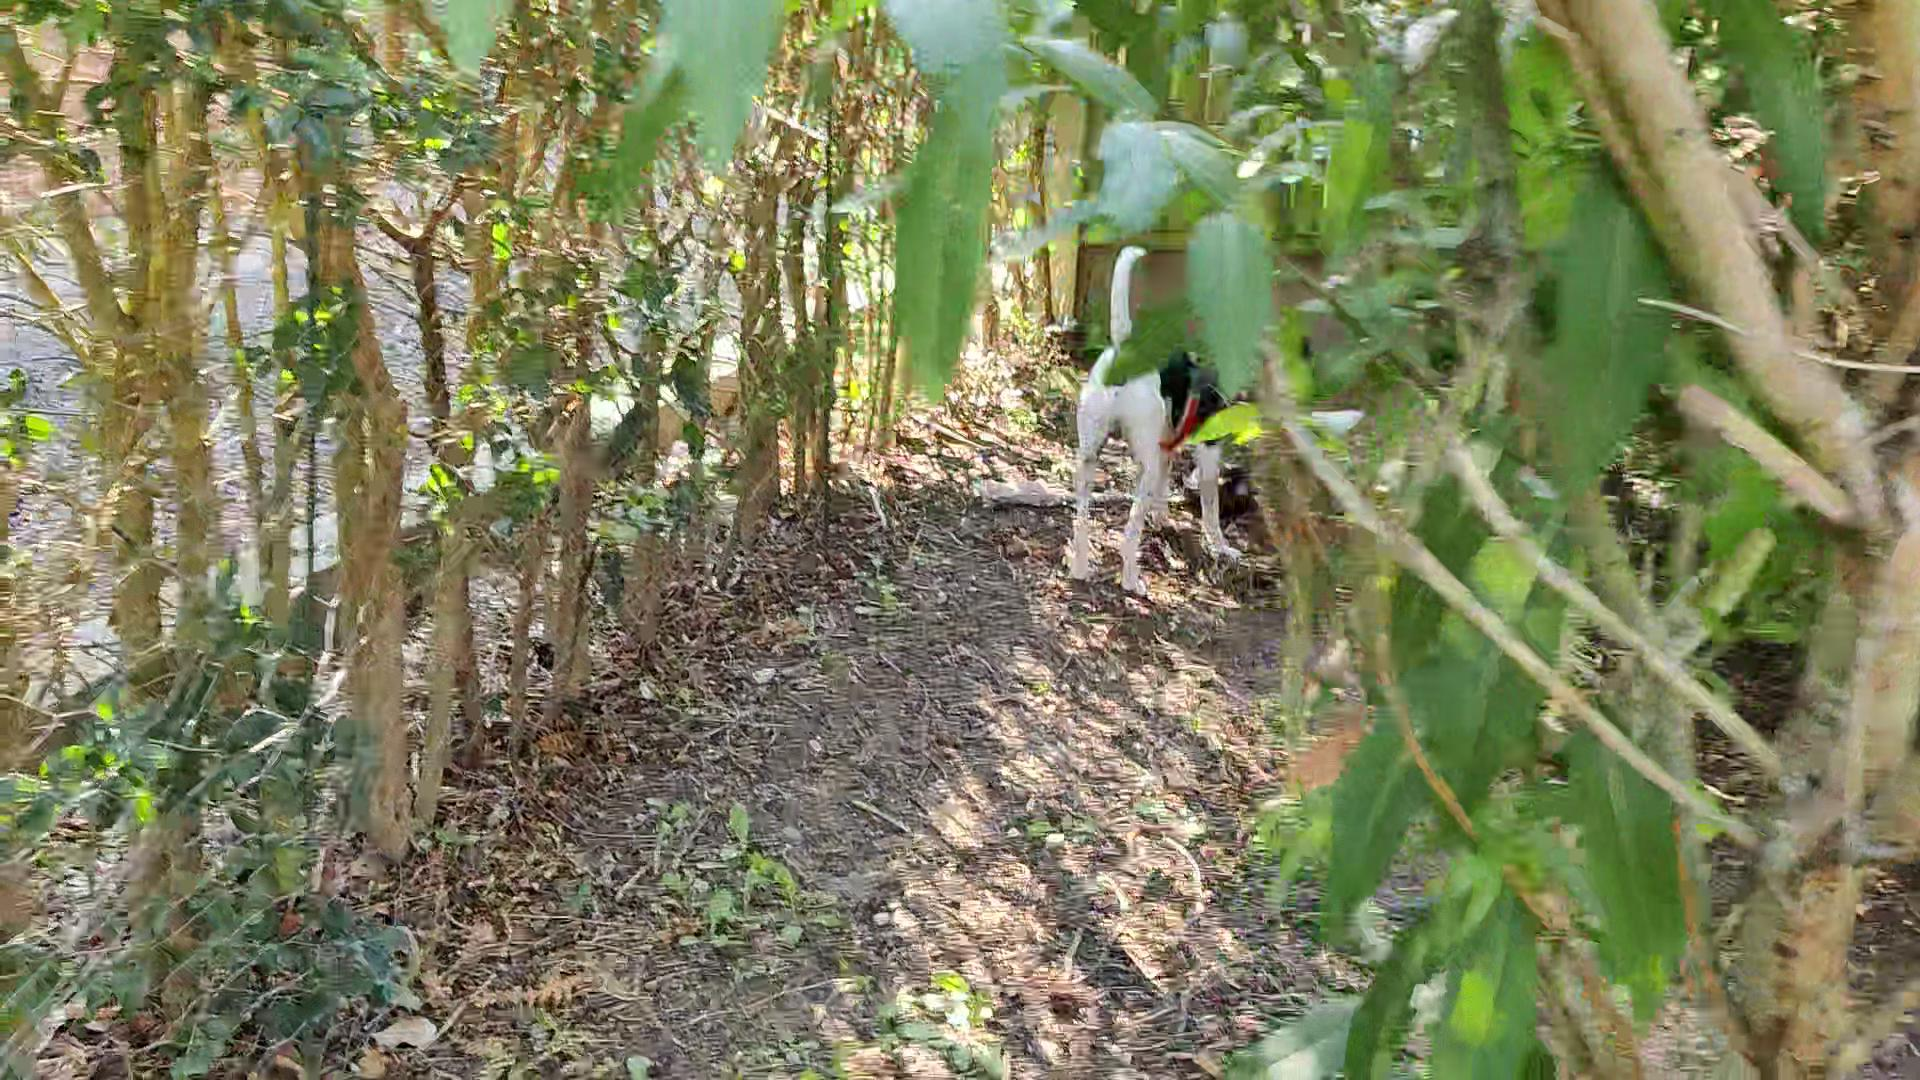Dog: (1054, 224, 1323, 596)
